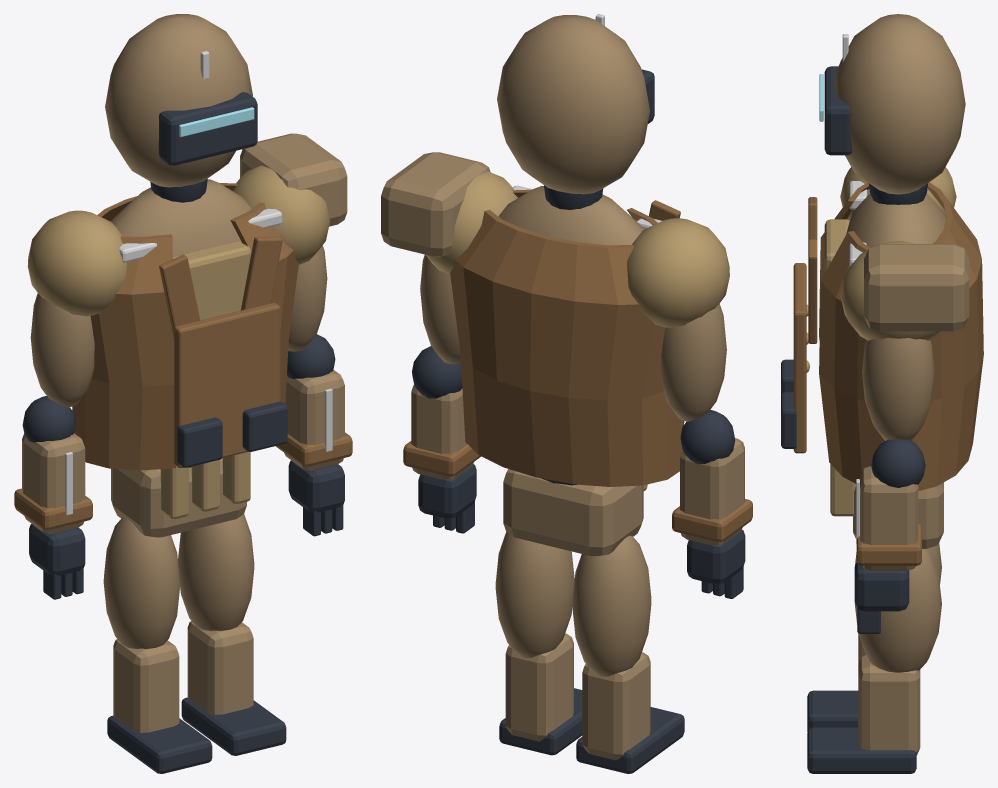
Rendered from steward.glb.
3 views of the same model, side by side, from view 1: azimuth 30°, elevation 25°; view 2: azimuth 150°, elevation 25°; view 3: azimuth 270°, elevation 25° (orthographic). The views are drawn at different scales.
Visible parts, largest first — view 1: Artisan apron, Helmet, Artisan apron bib, Shoulder R, Thigh R, Thigh L, Articulated thorax, Shin L, Shin R, Upper arm R, Tool shoulder case, Pelvis (+23 smaller); view 2: Artisan apron, Helmet, Pelvis, Shoulder R, Thigh R, Thigh L, Tool shoulder case, Upper arm R, Shin R, Shin L, Articulated thorax, Bracer R (+12 smaller); view 3: Artisan apron, Helmet, Tool shoulder case, Upper arm L, Thigh L, Shin L, Bracer L, Foot L, Articulated thorax, Artisan apron bib, Hand L, Elbow L (+14 smaller).
Boxes of the visible parts, x1=… form: Artisan apron: x1=72, y1=183, x2=298, y2=470; Helmet: x1=105, y1=14, x2=252, y2=187; Artisan apron bib: x1=174, y1=302, x2=280, y2=467; Shoulder R: x1=27, y1=210, x2=126, y2=316; Thigh R: x1=103, y1=517, x2=179, y2=648; Thigh L: x1=178, y1=514, x2=254, y2=630; Articulated thorax: x1=110, y1=179, x2=251, y2=256; Shin L: x1=187, y1=621, x2=253, y2=714; Shin R: x1=113, y1=639, x2=179, y2=732; Upper arm R: x1=30, y1=293, x2=94, y2=407; Tool shoulder case: x1=240, y1=133, x2=347, y2=226; Pelvis: x1=111, y1=458, x2=246, y2=537; Artisan apron: x1=450, y1=189, x2=684, y2=486; Helmet: x1=497, y1=15, x2=649, y2=194; Pelvis: x1=503, y1=469, x2=643, y2=556; Shoulder R: x1=627, y1=218, x2=729, y2=327; Thigh R: x1=572, y1=535, x2=651, y2=676; Thigh L: x1=495, y1=532, x2=574, y2=657; Tool shoulder case: x1=381, y1=152, x2=490, y2=256; Upper arm R: x1=661, y1=304, x2=726, y2=421; Shin R: x1=582, y1=652, x2=650, y2=760; Shin L: x1=505, y1=633, x2=573, y2=741; Articulated thorax: x1=498, y1=186, x2=644, y2=245; Bracer R: x1=680, y1=438, x2=744, y2=545; Artisan apron: x1=819, y1=182, x2=983, y2=490; Helmet: x1=834, y1=14, x2=965, y2=194; Tool shoulder case: x1=864, y1=244, x2=969, y2=331; Upper arm L: x1=862, y1=338, x2=934, y2=440; Thigh L: x1=854, y1=548, x2=941, y2=672; Shin L: x1=858, y1=655, x2=920, y2=755; Bracer L: x1=860, y1=466, x2=918, y2=570; Foot L: x1=807, y1=727, x2=916, y2=773; Articulated thorax: x1=846, y1=193, x2=945, y2=246; Artisan apron bib: x1=793, y1=263, x2=806, y2=453; Hand L: x1=854, y1=562, x2=909, y2=611; Elbow L: x1=871, y1=439, x2=925, y2=487.
Bounding box in the file's own units: 1.01 × 2.2 × 0.5575.
